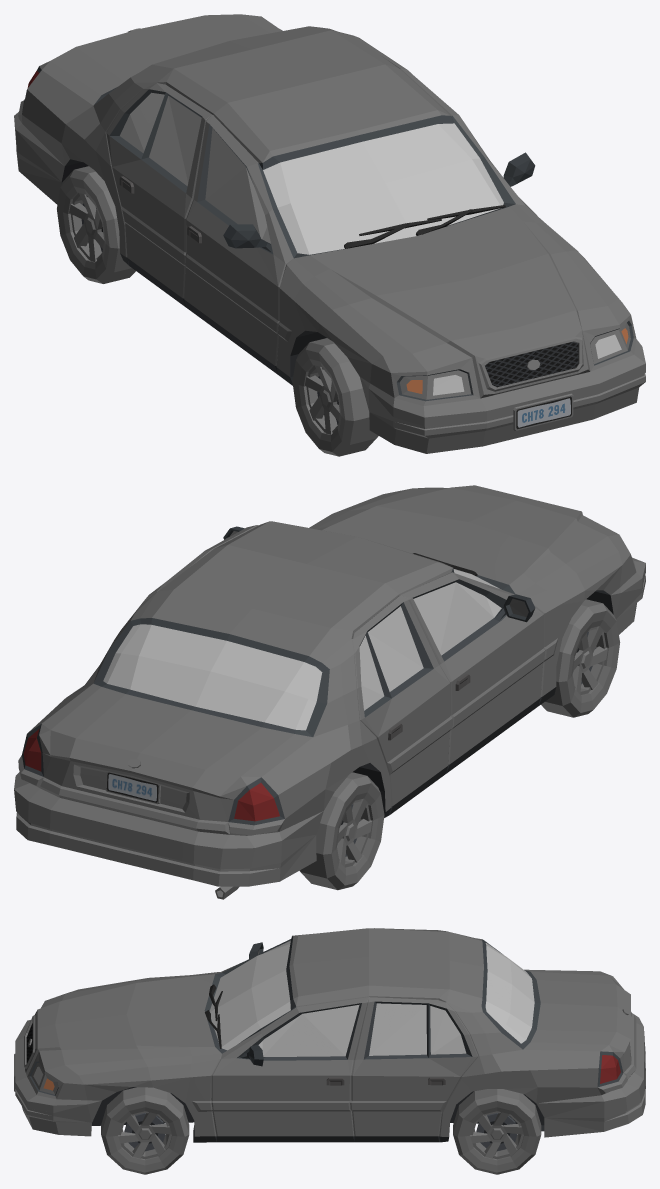
The model's file is SM_Veh_Car_Sedan_01.gltf.
3 views of the same model, one above another, from view 1: azimuth 30°, elevation 25°; view 2: azimuth 150°, elevation 25°; view 3: azimuth 270°, elevation 25° (orthographic). The views are drawn at different scales.
Parts seen in each view (by area): view 1: SM_Veh_Car_Sedan_01, SM_Veh_Car_Sedan_Glass, Wheel_fr, Wheel_rr, SM_Veh_Car_Sedan_Plates; view 2: SM_Veh_Car_Sedan_01, SM_Veh_Car_Sedan_Glass, Wheel_rr, Wheel_fr, SM_Veh_Car_Sedan_Plates; view 3: SM_Veh_Car_Sedan_01, SM_Veh_Car_Sedan_Glass, Wheel_fl, Wheel_rl.
Part boxes in pixels (<box>): SM_Veh_Car_Sedan_01: <box>14,14,645,453</box>; SM_Veh_Car_Sedan_Glass: <box>120,92,503,254</box>; Wheel_fr: <box>292,338,378,456</box>; Wheel_rr: <box>57,166,135,283</box>; SM_Veh_Car_Sedan_Plates: <box>513,393,573,430</box>; SM_Veh_Car_Sedan_01: <box>14,485,645,899</box>; SM_Veh_Car_Sedan_Glass: <box>103,569,501,730</box>; Wheel_rr: <box>299,772,384,890</box>; Wheel_fr: <box>541,599,620,717</box>; SM_Veh_Car_Sedan_Plates: <box>105,772,160,804</box>; SM_Veh_Car_Sedan_01: <box>15,928,645,1142</box>; SM_Veh_Car_Sedan_Glass: <box>209,940,534,1056</box>; Wheel_fl: <box>101,1087,189,1174</box>; Wheel_rl: <box>453,1089,541,1174</box>.
Bounding box in the file's own units: 2.17 × 1.54 × 5.18.
Materials: 2 (1 with a texture image).
